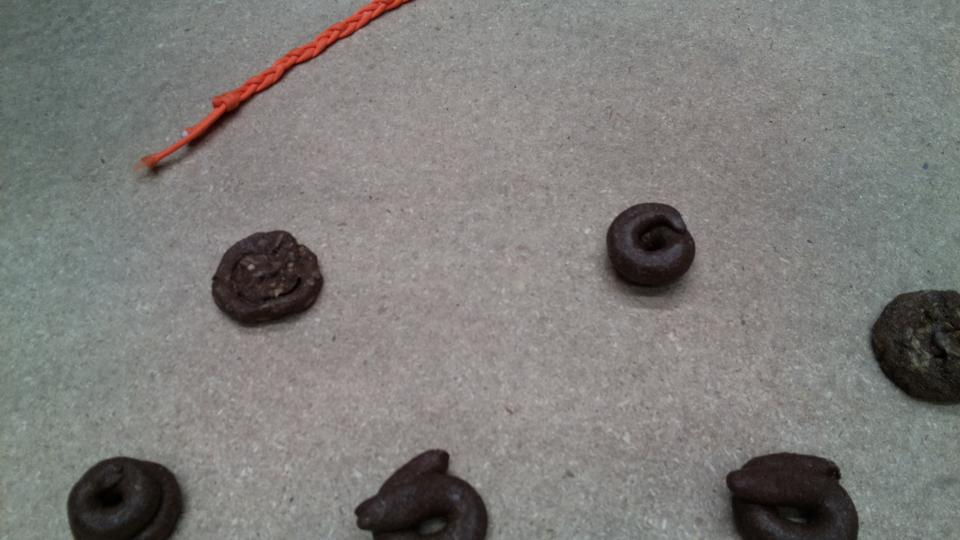poop: (351, 443, 491, 540), (208, 225, 329, 331), (722, 448, 861, 540), (867, 281, 959, 411), (61, 452, 188, 540), (602, 199, 701, 293)
rope: (130, 1, 404, 175)
